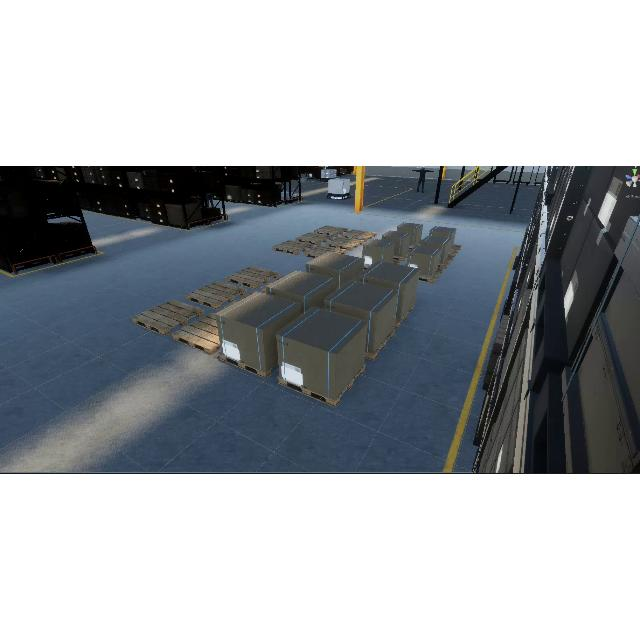wooden_pallet: (277, 363, 366, 407), (130, 299, 205, 337), (171, 312, 221, 356), (184, 281, 248, 309), (217, 350, 278, 379), (225, 265, 280, 289), (364, 329, 395, 361), (272, 240, 314, 256), (418, 267, 443, 283)
